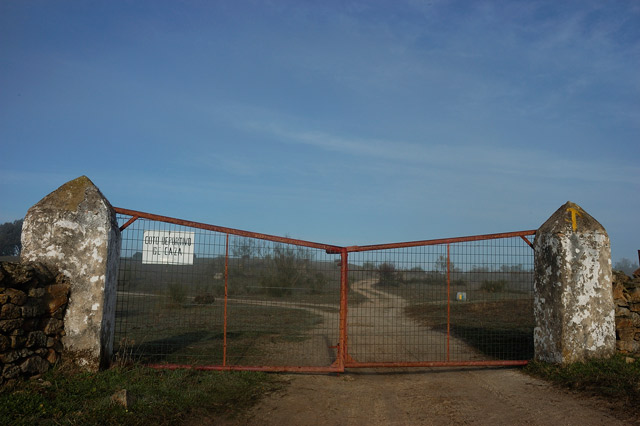Muro: (1, 257, 63, 380)
Poste: (19, 174, 115, 373), (534, 201, 618, 365)
Valla: (109, 207, 536, 367)
